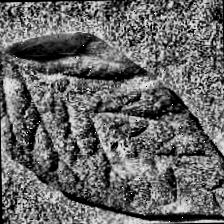leaf mold: (0, 32, 224, 222)
